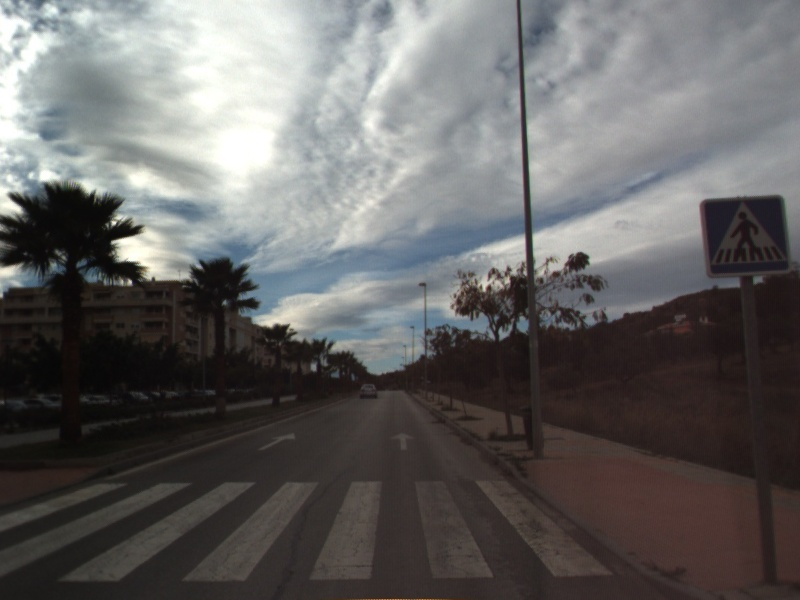STRAIGHT: (255, 431, 297, 452), (389, 430, 417, 452)
